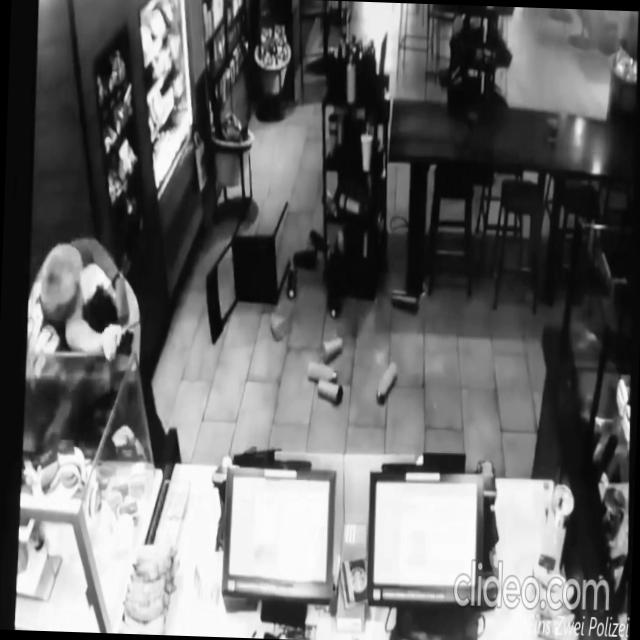gun: (110, 324, 136, 363)
person: (23, 232, 133, 464)
person with a gun: (57, 256, 190, 464)
